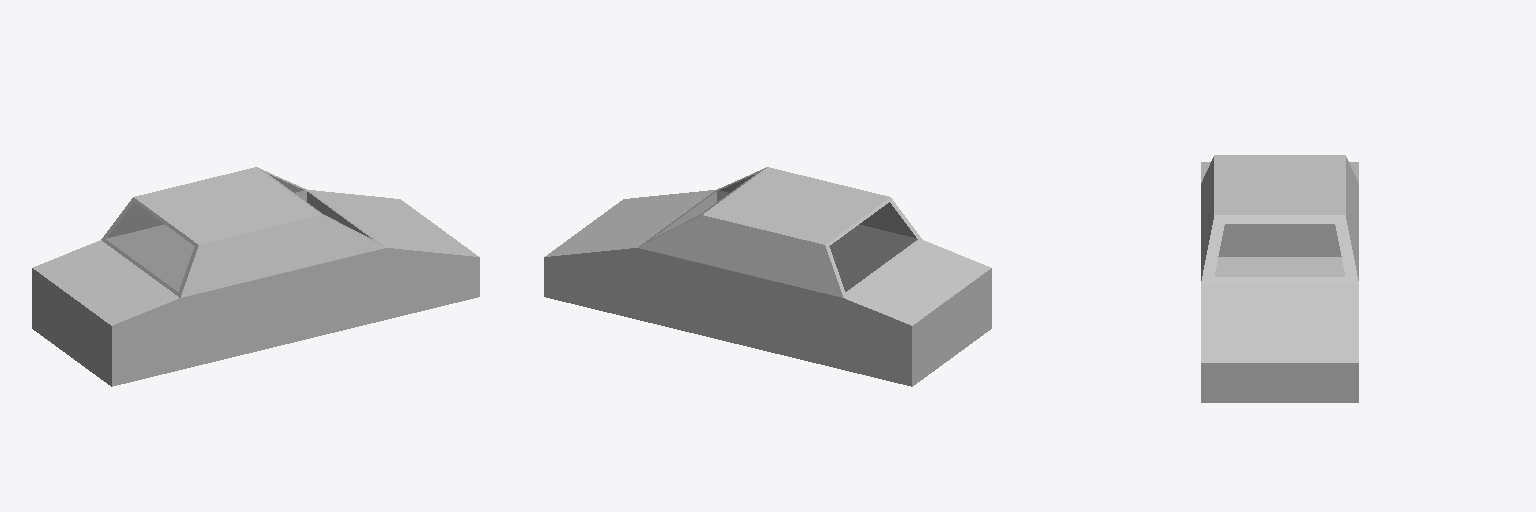
Rendered from body.obj.
3 views of the same model, side by side, from view 1: azimuth 30°, elevation 25°; view 2: azimuth 150°, elevation 25°; view 3: azimuth 270°, elevation 25° (orthographic).
Parts seen in each view (by area): view 1: Cube_Cube.001; view 2: Cube_Cube.001; view 3: Cube_Cube.001.
Part boxes in pixels (bbox=[...]): Cube_Cube.001: bbox=[32, 167, 479, 386]; Cube_Cube.001: bbox=[544, 167, 991, 386]; Cube_Cube.001: bbox=[1201, 155, 1358, 402].
Size of the model in its own units: 10.71 by 3.16 by 4.